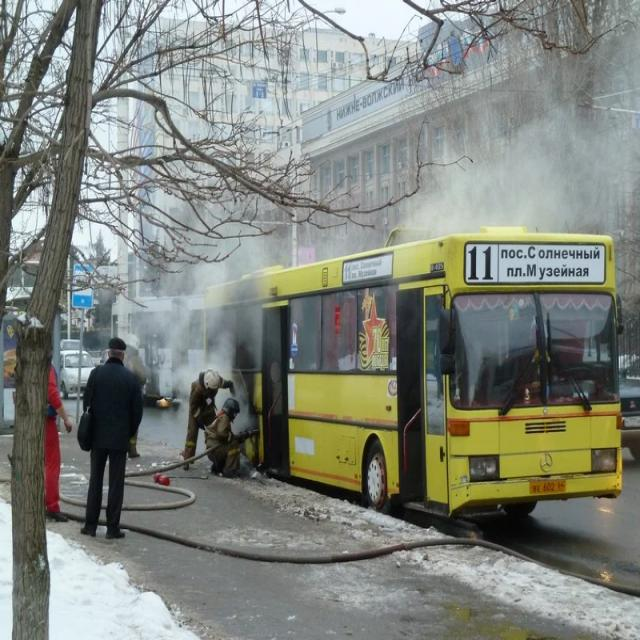number-of-bus: (468, 244, 498, 283)
